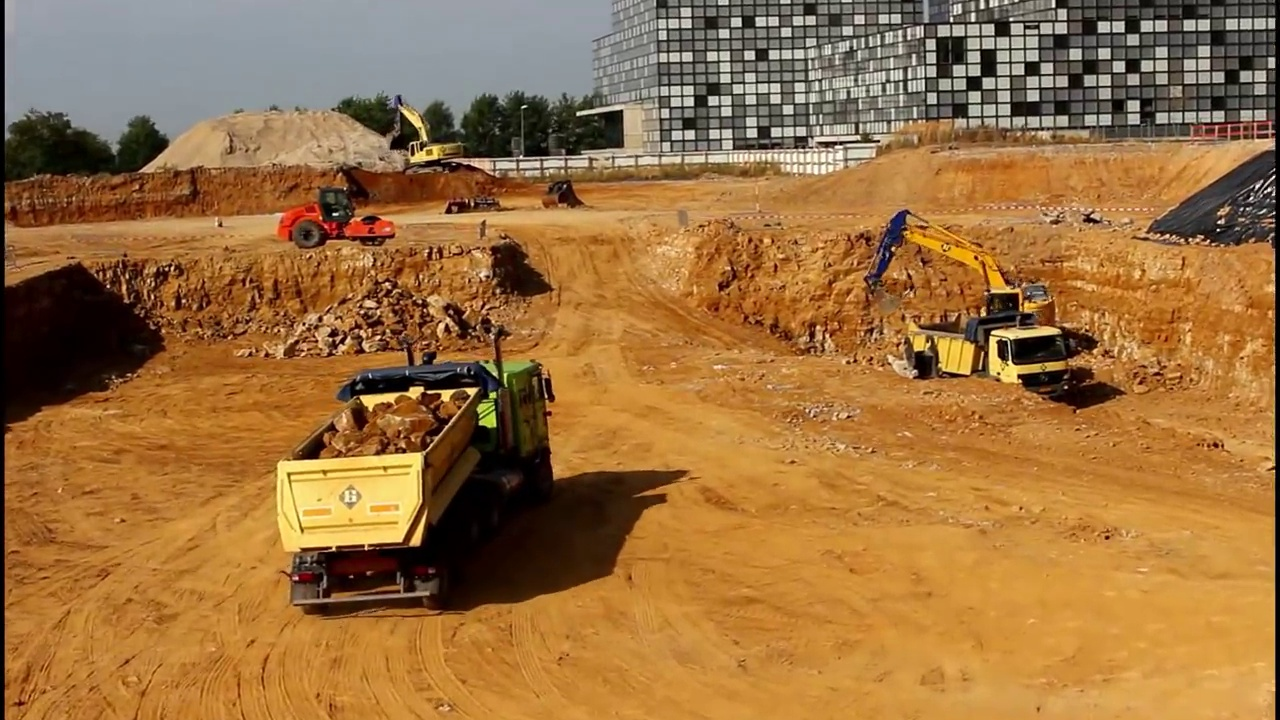compactor: (275, 186, 399, 251)
excavator: (862, 205, 1078, 375), (388, 92, 467, 176)
truck: (272, 326, 560, 621), (905, 320, 1074, 424)
